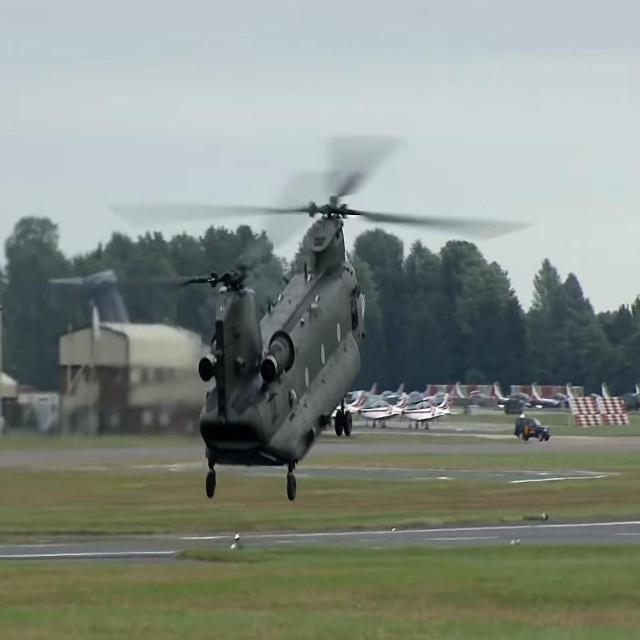Helicopter: (174, 198, 374, 497)
